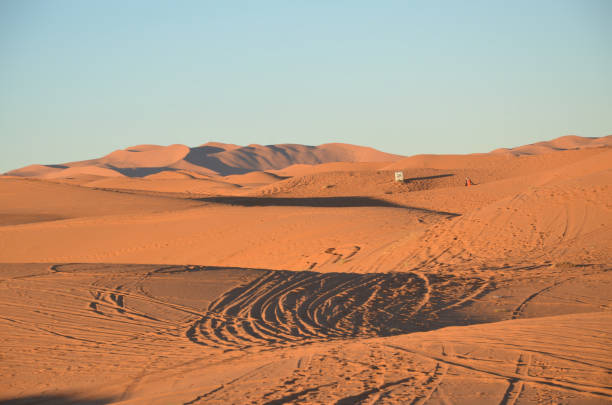vehicle_track: (0, 264, 611, 404), (42, 264, 488, 348), (185, 271, 485, 347), (12, 263, 204, 350), (203, 272, 421, 344), (2, 280, 175, 363), (2, 269, 174, 345), (386, 344, 611, 399), (53, 263, 204, 327), (335, 344, 445, 404), (36, 285, 168, 322), (412, 272, 495, 329), (182, 362, 273, 404), (497, 342, 611, 373), (1, 302, 104, 329), (89, 286, 164, 323), (0, 316, 101, 343), (426, 273, 493, 313), (512, 277, 574, 318), (335, 376, 413, 404), (432, 280, 491, 313), (550, 205, 587, 256), (120, 357, 158, 399), (264, 382, 336, 404), (411, 362, 448, 404), (412, 272, 431, 314), (324, 245, 360, 262), (500, 378, 523, 404)
